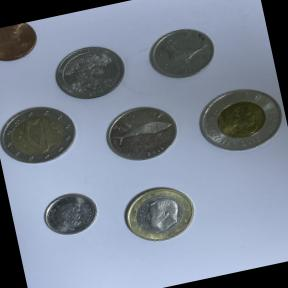1 Euro-B: (116, 175, 201, 249)
2 Euro-B: (0, 97, 85, 175)
Canada-10cent-B: (36, 182, 104, 243)
Canada-2Dollar-B: (190, 77, 288, 162)
Croatia-2Kune-B: (99, 98, 186, 170)
US-1cent-B: (0, 20, 42, 68)
US-25cent-B: (45, 36, 133, 108)
